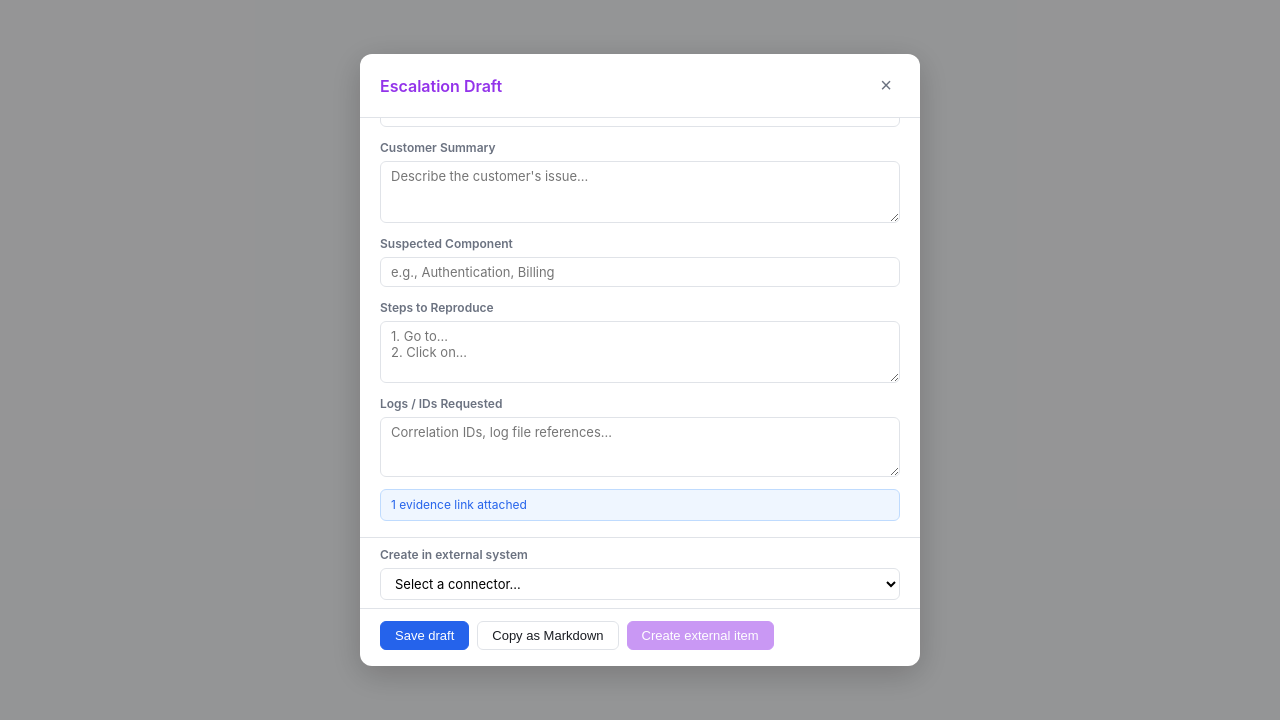
Test: EscalationDraftModal › renders aria-label on ADO target project input when ADO connector selected
(page scrolled)
# Select the ADO connector
Select "My ADO (AzureDevOps)" in the dropdown with test id "connector-selector". click: x=640, y=584
box: 380,568 -> 900,600
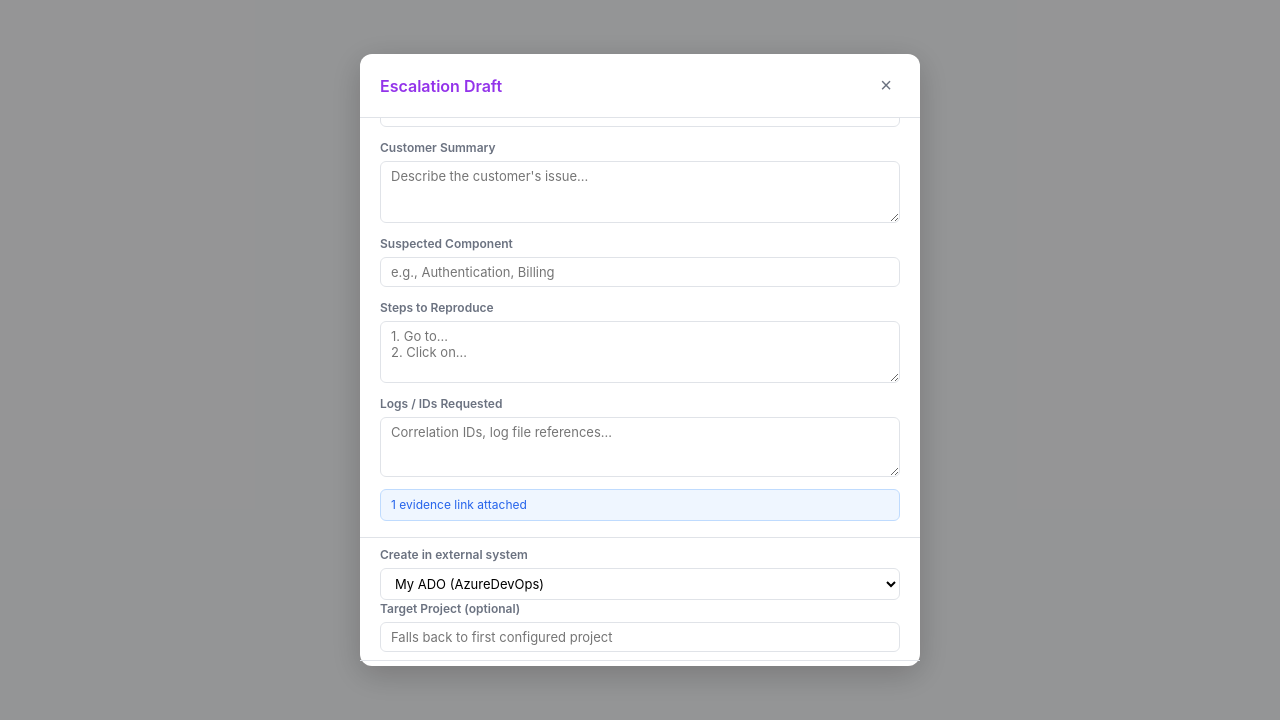
Expected: the field with test id "target-project" is shown, 380,622 -> 900,652
